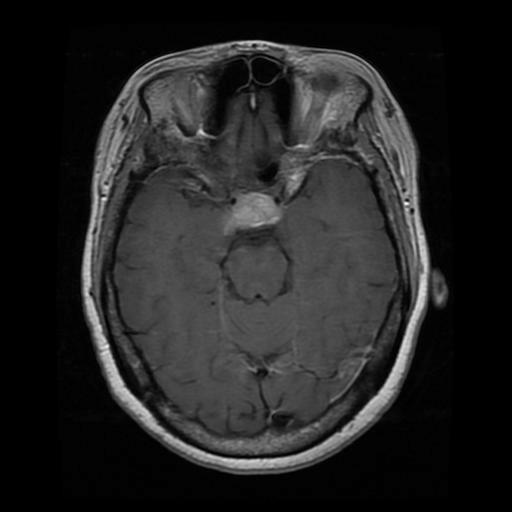Tumour-Pituitary: (226, 190, 284, 237)
